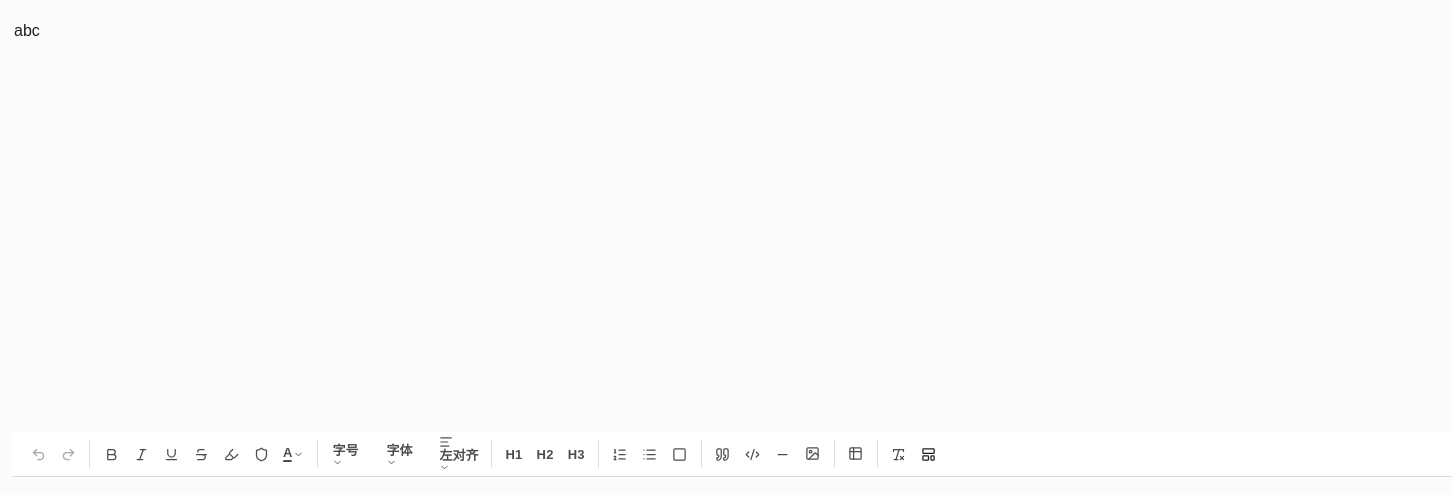
it: EditorToolbar 触发器显示当前值（shadcn-tiptap 结构） › 颜色弹层两栏：文字色 8 项 + 无，背景高亮 4 项 + 清除高亮
# 打开 A 颜色弹层
Click the button named "文字颜色": (294, 454) 277,440 -> 310,468
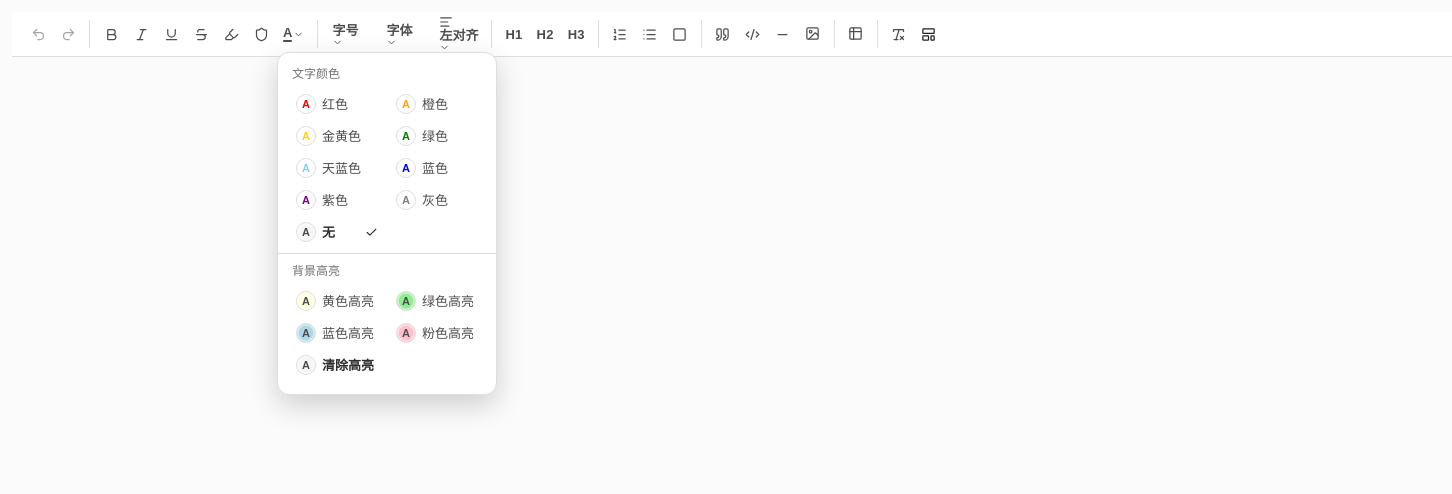
Now the text "文字颜色" is shown, box 292,67 -> 340,81
Now the text "背景高亮" is shown, box 292,264 -> 340,278
Now the button titled "红色" is shown, box 288,89 -> 386,119
